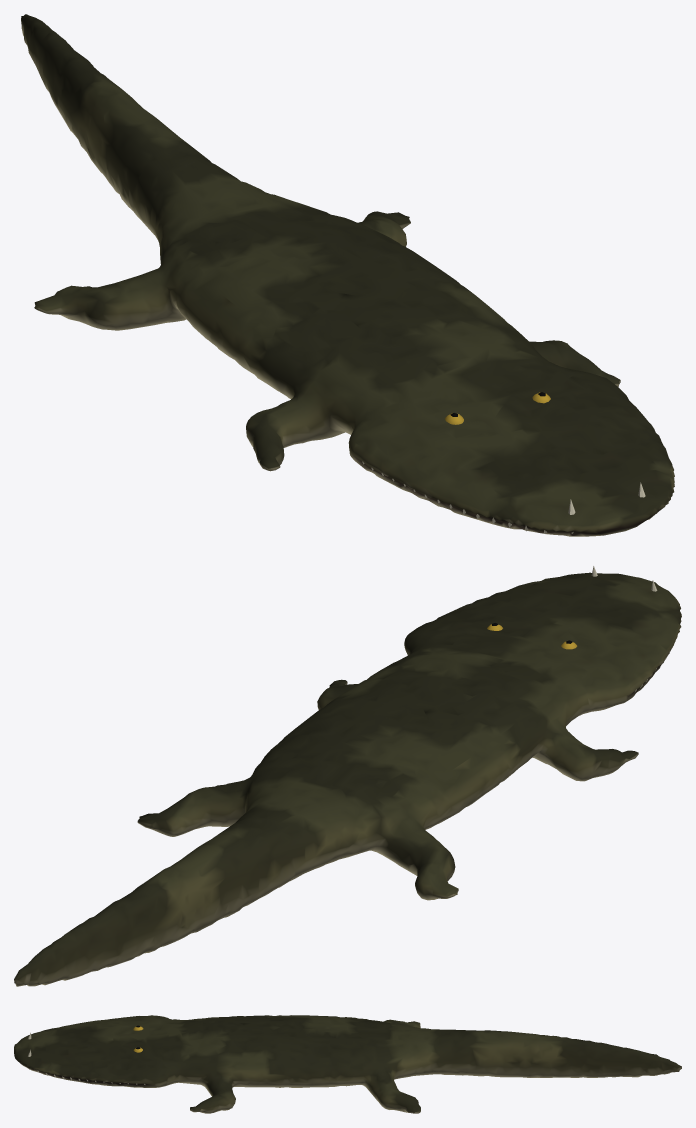
File: Mastodonsaurus.fbx
3 renders of one model, top to bottom at view 1: azimuth 30°, elevation 25°; view 2: azimuth 150°, elevation 25°; view 3: azimuth 270°, elevation 25°, orthographic. The views are drawn at different scales.
Visible parts, largest first — view 1: Mastodonsaurus; view 2: Mastodonsaurus; view 3: Mastodonsaurus.
Part boxes in pixels (x1,y1,x2,y2): Mastodonsaurus: (21, 14, 674, 536); Mastodonsaurus: (14, 566, 681, 986); Mastodonsaurus: (14, 1015, 681, 1113).
Size of the model in its own units: 0.6444 by 0.1485 by 1.99.
